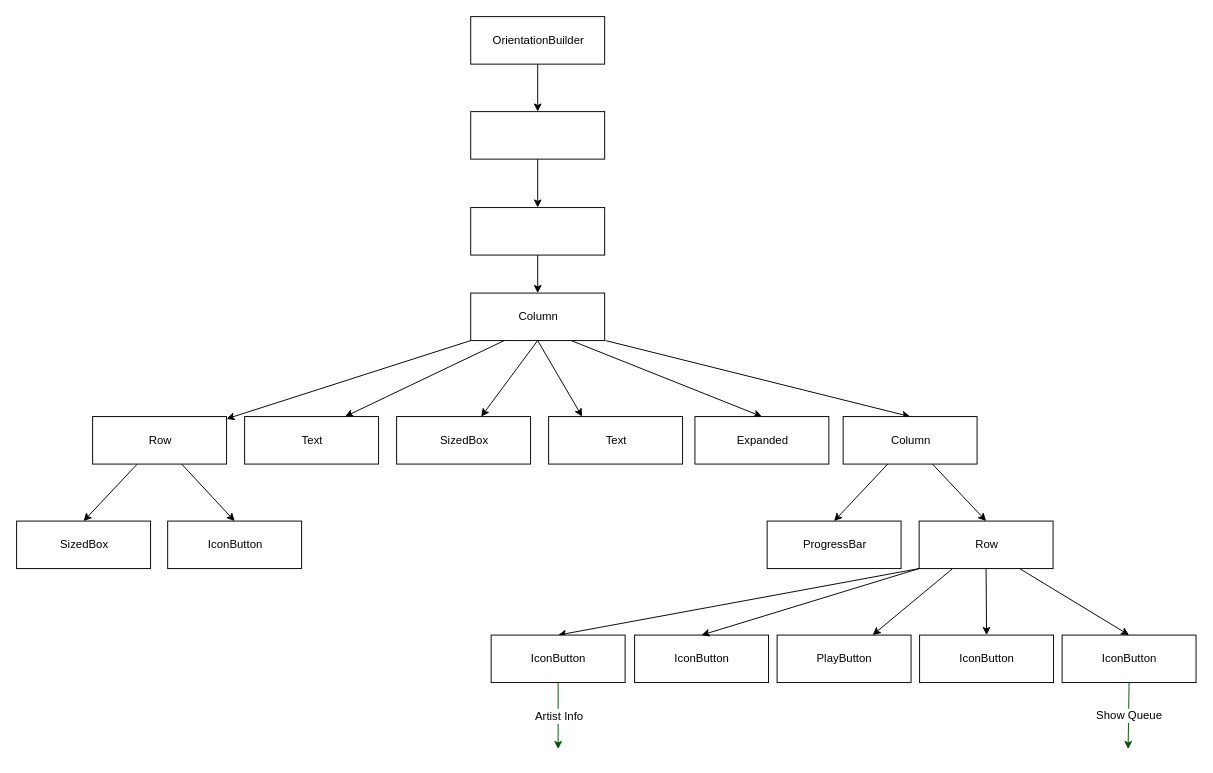
The diagram is 1213 pixels wide and 773 high, and some of its shapes have lost their labels. The shapes that lost their labels are listed below. From the top down, each one's box as (x1, y1, x2, y2) in pixels, then its label:
(470, 111, 605, 159): Scaffold
(470, 207, 605, 255): SafeArea
